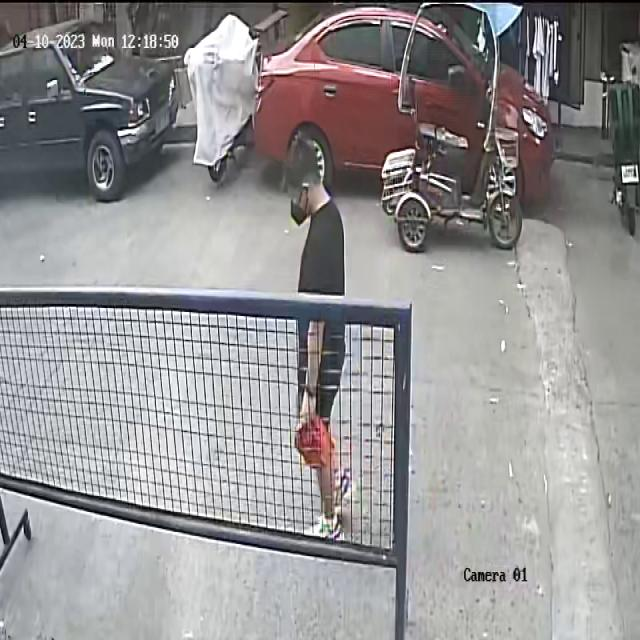garbage_dumping: (288, 412, 339, 475)
